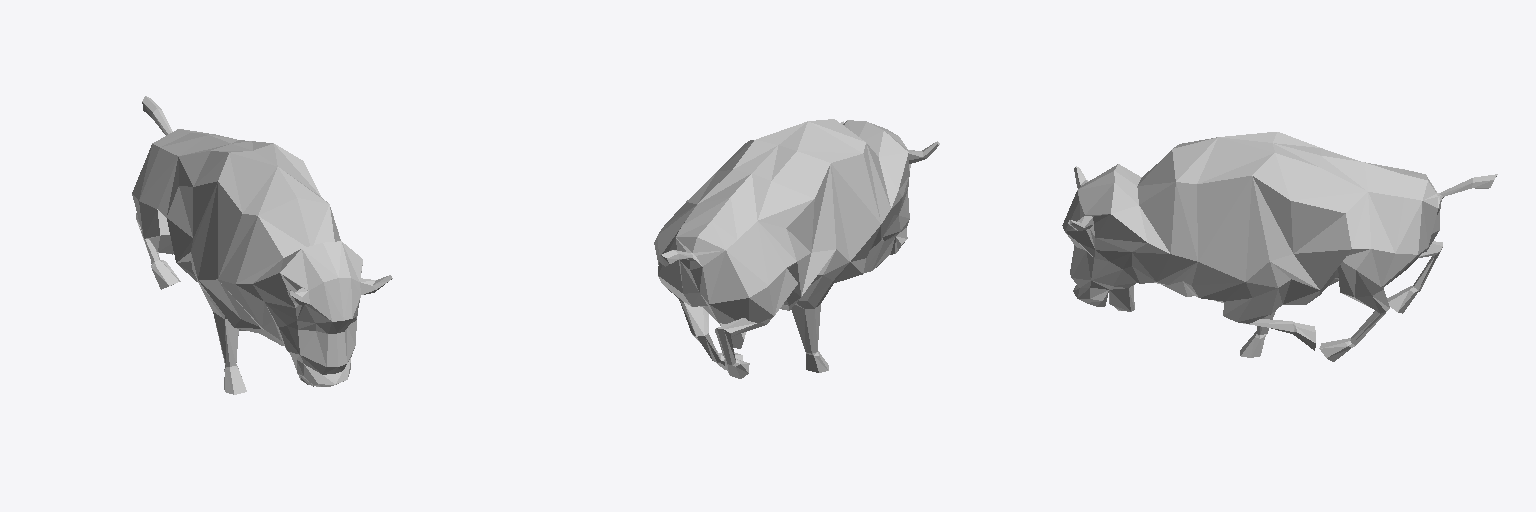
Rendered from bison_001.obj.
3 views of the same model, side by side, from view 1: azimuth 30°, elevation 25°; view 2: azimuth 150°, elevation 25°; view 3: azimuth 270°, elevation 25° (orthographic).
Parts seen in each view (by area): view 1: comp_bison_rig:bison_body comp_bison_rig:bison; view 2: comp_bison_rig:bison_body comp_bison_rig:bison; view 3: comp_bison_rig:bison_body comp_bison_rig:bison.
Part boxes in pixels (x1,y1,x2,y2): comp_bison_rig:bison_body comp_bison_rig:bison: (132,96,392,394); comp_bison_rig:bison_body comp_bison_rig:bison: (654,119,939,378); comp_bison_rig:bison_body comp_bison_rig:bison: (1062,132,1497,361).
Size of the model in its own units: 126 by 182 by 314.